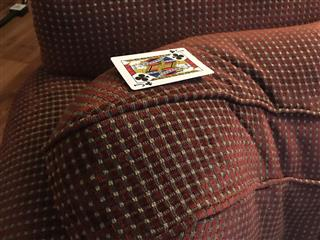JackOfClubs: (109, 47, 215, 90)
